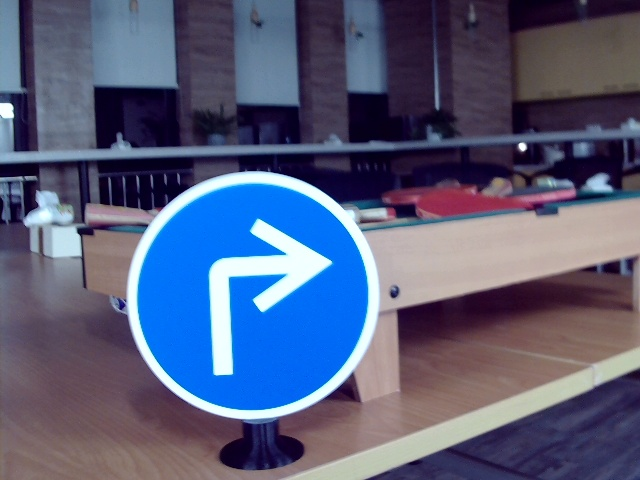turn_right: (195, 216, 330, 378)
